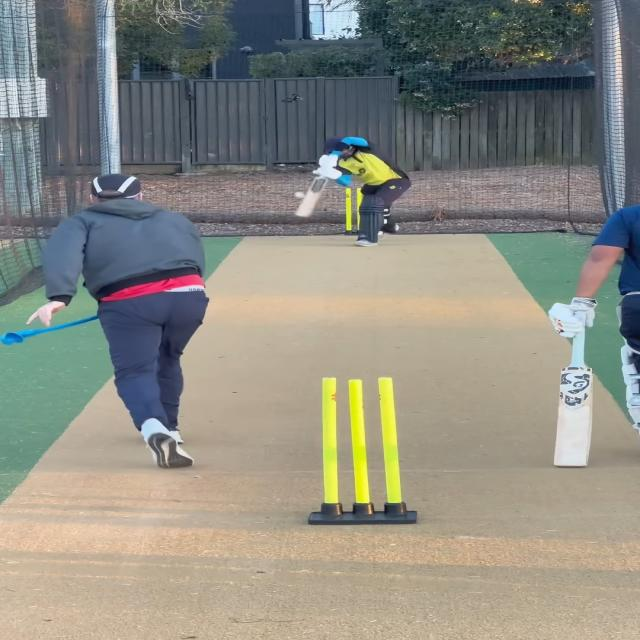ball: (292, 190, 306, 199)
stump: (307, 373, 418, 524), (344, 186, 367, 235)
